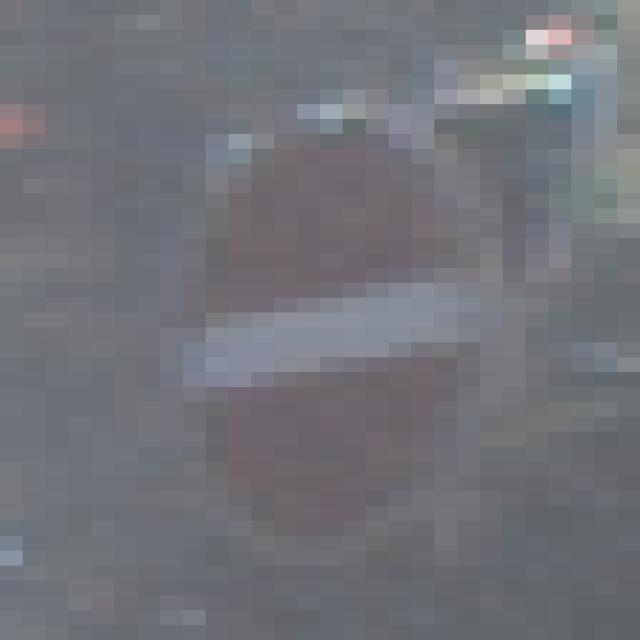No Entry: (138, 90, 527, 567)
